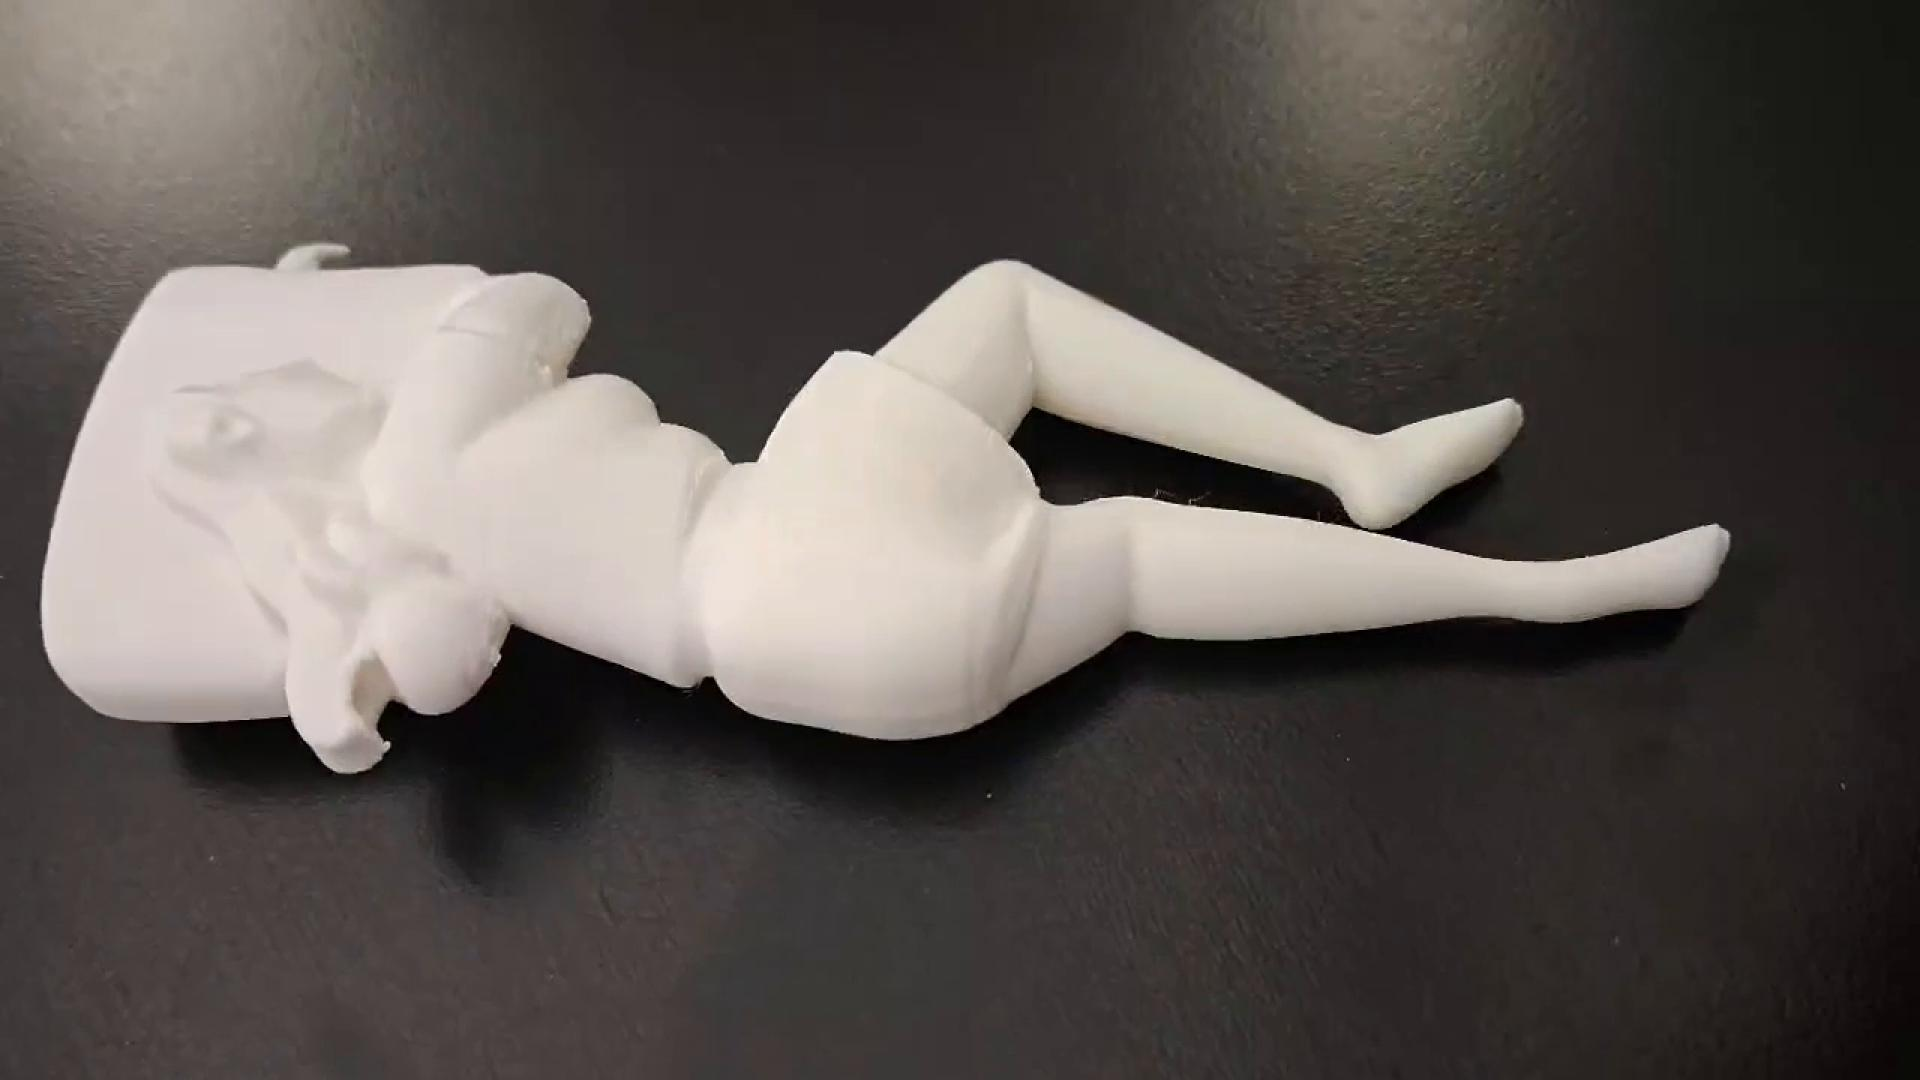Good-style: (34, 237, 1737, 781)
